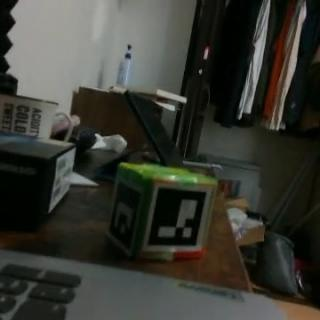armor: (144, 181, 212, 254), (106, 179, 146, 252)
robot: (105, 160, 219, 261)
